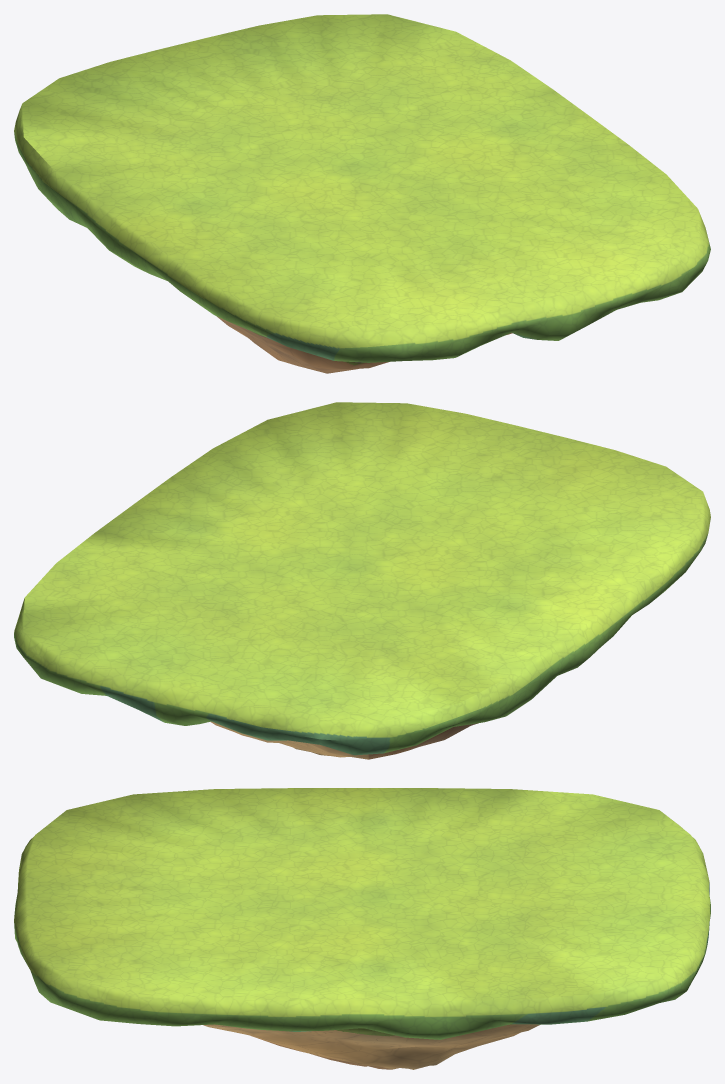
Rendered from T06_GrassFloatingPlatform.fbx.
3 renders of one model, top to bottom at view 1: azimuth 30°, elevation 25°; view 2: azimuth 150°, elevation 25°; view 3: azimuth 270°, elevation 25°, orthographic. The views are drawn at different scales.
Parts seen in each view (by area): view 1: T06_GrassFloatingPlatform; view 2: T06_GrassFloatingPlatform; view 3: T06_GrassFloatingPlatform.
Part boxes in pixels (x1,y1,x2,y2): T06_GrassFloatingPlatform: (14, 14, 710, 373); T06_GrassFloatingPlatform: (14, 402, 710, 759); T06_GrassFloatingPlatform: (14, 788, 710, 1069).
Bounding box in the file's own units: 3.02 × 1.02 × 4.
